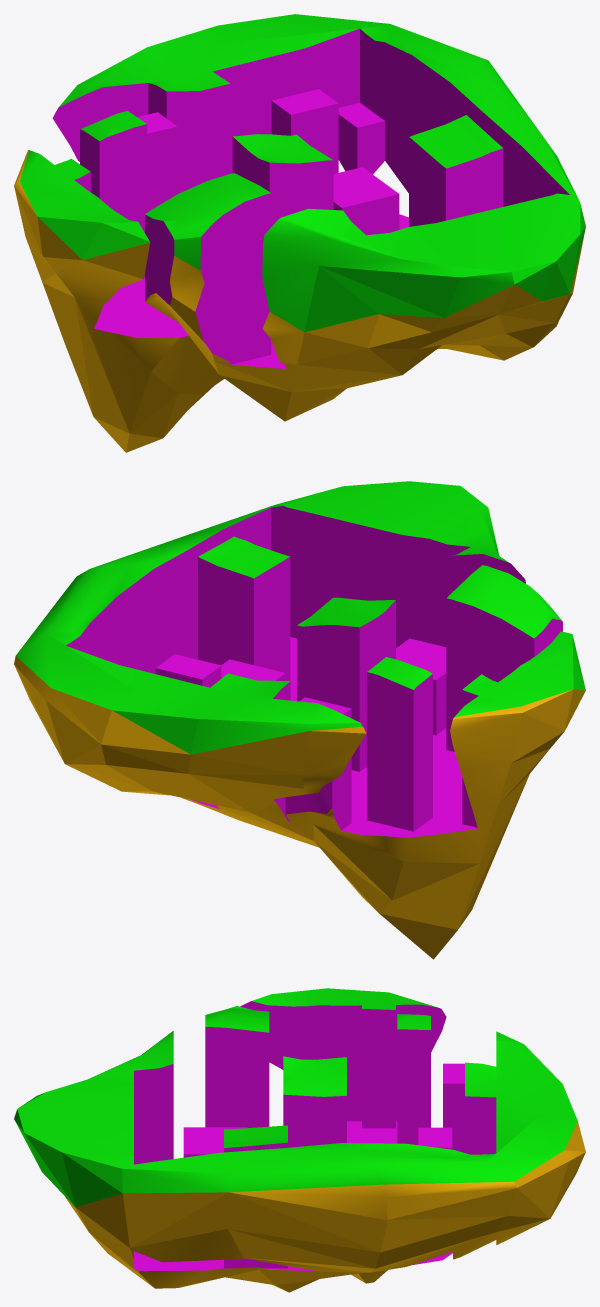
Rendered from LandChunkB_Glitch.fbx.
3 renders of one model, top to bottom at view 1: azimuth 30°, elevation 25°; view 2: azimuth 150°, elevation 25°; view 3: azimuth 270°, elevation 25°, orthographic. The views are drawn at different scales.
Visible parts, largest first — view 1: LandChunkB_Glitch; view 2: LandChunkB_Glitch; view 3: LandChunkB_Glitch.
Boxes of the visible parts, bbox=[...] form: LandChunkB_Glitch: bbox=[14, 14, 585, 452]; LandChunkB_Glitch: bbox=[14, 481, 585, 959]; LandChunkB_Glitch: bbox=[14, 988, 585, 1292].
Size of the model in its own units: 90.42 by 56.9 by 107.
